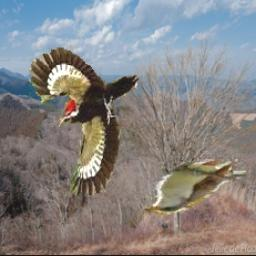Cuckoo: (140, 160, 247, 219)
Woodpecker: (28, 44, 140, 195)
